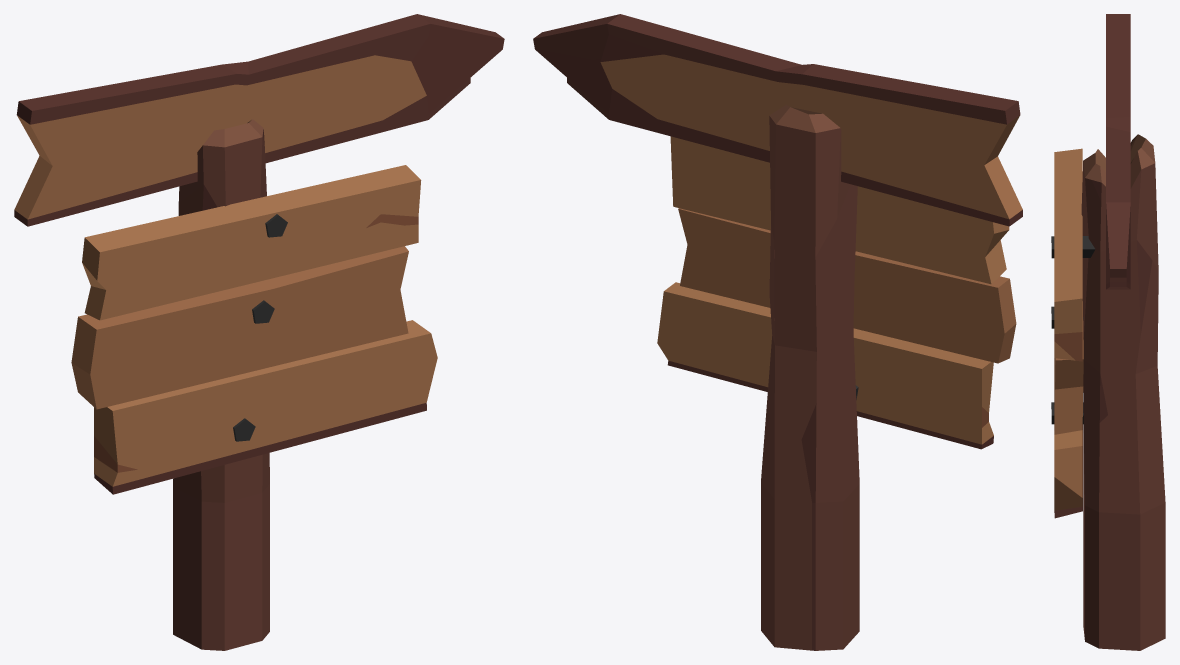
The model's file is singboard_pointer.fbx.
3 views of the same model, side by side, from view 1: azimuth 30°, elevation 25°; view 2: azimuth 150°, elevation 25°; view 3: azimuth 270°, elevation 25° (orthographic). The views are drawn at different scales.
Parts seen in each view (by area): view 1: signboard.001, pointer; view 2: pointer, signboard.001; view 3: pointer, signboard.001.
Part boxes in pixels (bbox=[...]): signboard.001: bbox=[71, 165, 437, 494]; pointer: bbox=[14, 14, 504, 650]; pointer: bbox=[533, 14, 1022, 650]; signboard.001: bbox=[657, 136, 1016, 449]; pointer: bbox=[1081, 14, 1165, 650]; signboard.001: bbox=[1051, 148, 1095, 518].
Bounding box in the file's own units: 72.52 × 83.14 × 16.24.
